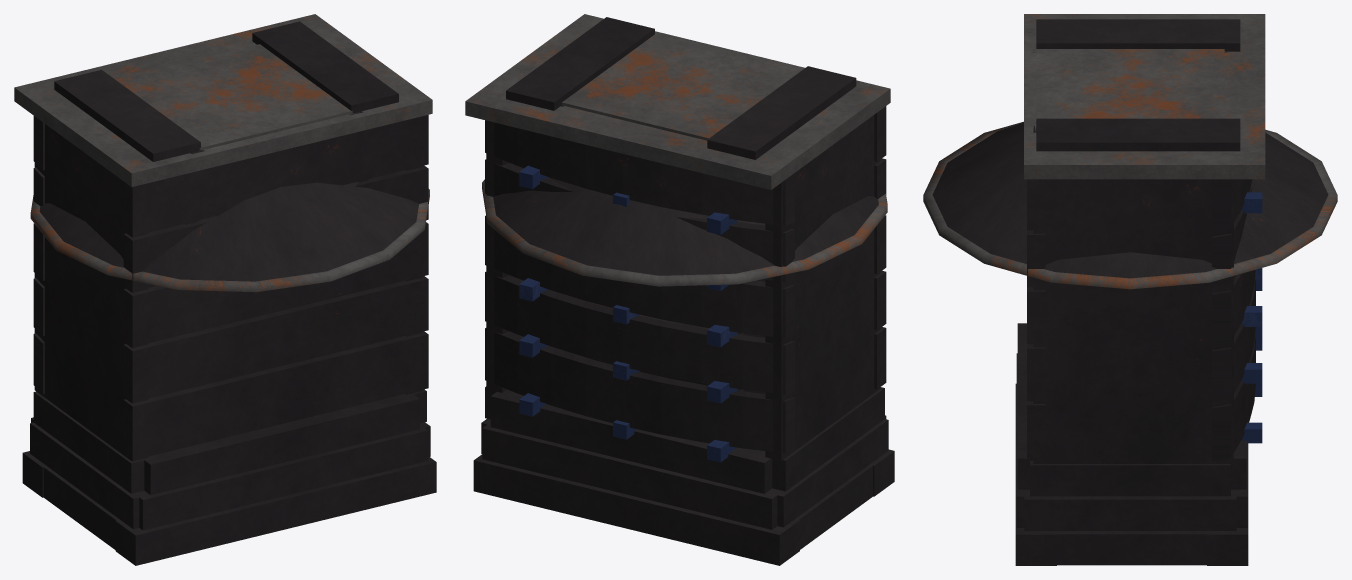
The model's file is HO_Armor_Ashigaru.fbx.
3 renders of one model, left to right at view 1: azimuth 30°, elevation 25°; view 2: azimuth 150°, elevation 25°; view 3: azimuth 270°, elevation 25°, orthographic. The views are drawn at different scales.
Parts seen in each view (by area): view 1: HO_Armor_Ashigaru_Torso__Black_Lacquer, HO_Armor_Ashigaru_Helmet__Black_Lacquer, HO_Armor_Ashigaru_Torso__Iron_Wrought, HO_Armor_Ashigaru_LeftArm__Iron_Wrought, HO_Armor_Ashigaru_Helmet__Iron_Wrought; view 2: HO_Armor_Ashigaru_Torso__Black_Lacquer, HO_Armor_Ashigaru_Helmet__Black_Lacquer, HO_Armor_Ashigaru_Torso__Iron_Wrought, HO_Armor_Ashigaru_LeftArm__Iron_Wrought, HO_Armor_Ashigaru_Helmet__Iron_Wrought, HO_Armor_Ashigaru_Torso__Cloth_Navy; view 3: HO_Armor_Ashigaru_Torso__Black_Lacquer, HO_Armor_Ashigaru_Helmet__Black_Lacquer, HO_Armor_Ashigaru_Torso__Iron_Wrought, HO_Armor_Ashigaru_LeftArm__Iron_Wrought, HO_Armor_Ashigaru_Helmet__Iron_Wrought, HO_Armor_Ashigaru_Torso__Cloth_Navy.
Part boxes in pixels (<box>): HO_Armor_Ashigaru_Torso__Black_Lacquer: <box>22,21,436,565</box>; HO_Armor_Ashigaru_Helmet__Black_Lacquer: <box>39,182,418,281</box>; HO_Armor_Ashigaru_Torso__Iron_Wrought: <box>14,14,432,186</box>; HO_Armor_Ashigaru_LeftArm__Iron_Wrought: <box>115,44,352,150</box>; HO_Armor_Ashigaru_Helmet__Iron_Wrought: <box>30,189,429,292</box>; HO_Armor_Ashigaru_Torso__Black_Lacquer: <box>473,17,894,565</box>; HO_Armor_Ashigaru_Helmet__Black_Lacquer: <box>493,177,878,275</box>; HO_Armor_Ashigaru_Torso__Iron_Wrought: <box>465,14,890,189</box>; HO_Armor_Ashigaru_LeftArm__Iron_Wrought: <box>562,34,801,140</box>; HO_Armor_Ashigaru_Helmet__Iron_Wrought: <box>482,179,887,286</box>; HO_Armor_Ashigaru_Torso__Cloth_Navy: <box>519,165,737,462</box>; HO_Armor_Ashigaru_Torso__Black_Lacquer: <box>1015,19,1255,565</box>; HO_Armor_Ashigaru_Helmet__Black_Lacquer: <box>932,122,1328,278</box>; HO_Armor_Ashigaru_Torso__Iron_Wrought: <box>1024,14,1265,179</box>; HO_Armor_Ashigaru_LeftArm__Iron_Wrought: <box>1036,49,1224,118</box>; HO_Armor_Ashigaru_Helmet__Iron_Wrought: <box>923,121,1337,289</box>; HO_Armor_Ashigaru_Torso__Cloth_Navy: <box>1241,192,1262,443</box>.
Size of the model in its own units: 2.64 by 2.88 by 2.64.
